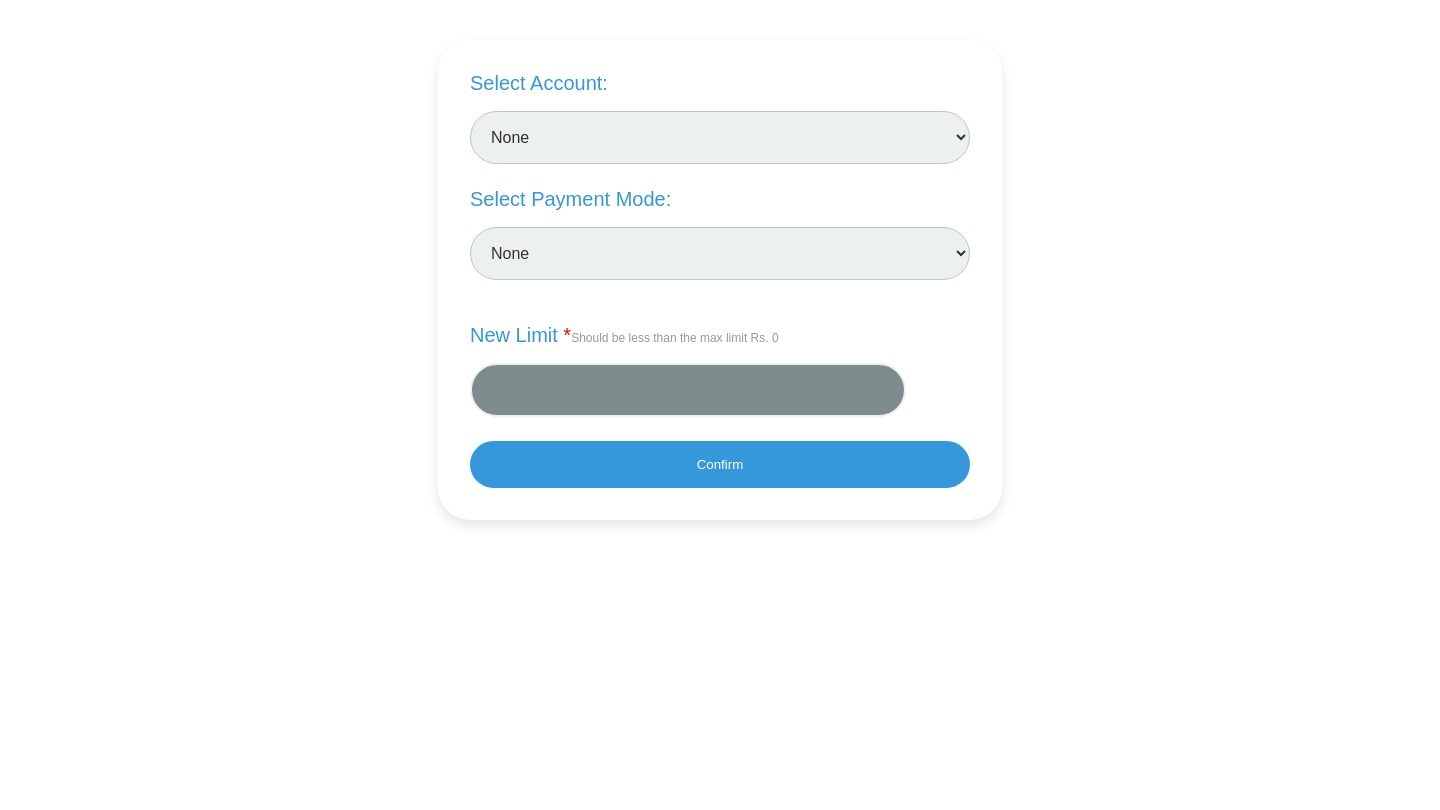
Scenario: EditTransactionLimit › displays error when fields are missing
Click the button "Confirm" at (720, 464), box [470,441,970,488]
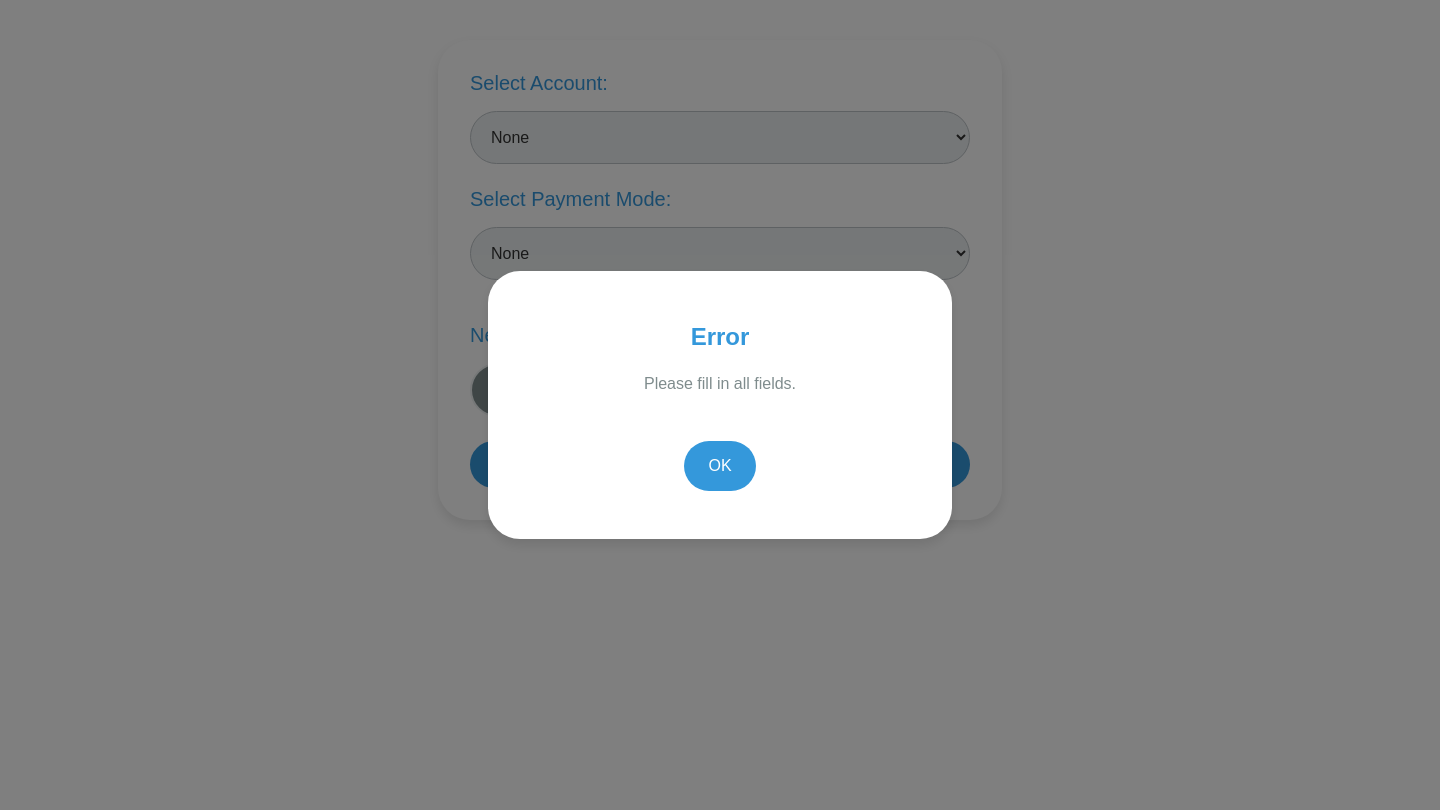
Expected: the text "Please fill in all fields." is shown, [644,375,796,392]
